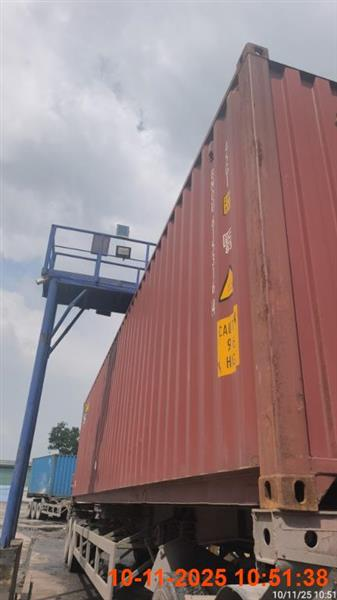rust: (64, 43, 336, 597)
